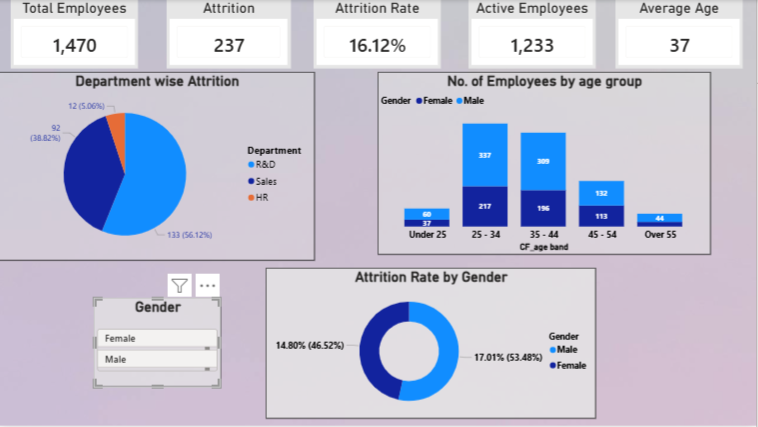

This screenshot's page, from the dashboard's own definition file:
{"tool":"powerbi","page":{"name":"Page 1","canvas":[1280,720],"ordinal":0},"visuals":[{"type":"cardVisual","title":"Total Employees","fields":{"Data":["HR data.Total Employees Text"]},"box":[20.2,0,215,115.9],"z":0},{"type":"cardVisual","title":"Attrition","fields":{"Data":["Sum(HR data.Attrition count)"]},"box":[283.9,0,210,115.9],"z":1000},{"type":"cardVisual","title":"Attrition Rate","fields":{"Data":["HR data.Attrition Rate"]},"box":[532.5,0,215,115.9],"z":2000},{"type":"cardVisual","title":"Active Employees","fields":{"Data":["HR data.Difference emp"]},"box":[792.9,0,215,115.9],"z":3000},{"type":"cardVisual","title":"Average Age","fields":{"Data":["HR data.Average Age"]},"box":[1041.5,0,215,115.9],"z":4000},{"type":"pieChart","title":"Department wise Attrition ","fields":{"Category":["HR data.Department"],"Y":["Sum(HR data.Attrition count)"]},"box":[0,120.9,534.2,319.2],"z":5000},{"type":"columnChart","title":"No. of Employees by age group","fields":{"Category":["HR data.CF_age band"],"Y":["Sum(HR data.Employee Count)"],"Series":["HR data.Gender"]},"box":[640,120.9,562.7,309.1],"z":6000},{"type":"cardVisual","title":"Gender","fields":{"Rows":["HR data.Gender"]},"box":[159.6,503.9,215,151.2],"z":7000},{"type":"donutChart","fields":{"Category":["HR data.Gender"],"Y":["HR data.Attrition Rate"]},"box":[450.2,451.9,557.7,255.3],"z":8000}]}

Visuals, with their boxes in screenshot pixels (x1, y1, x2, y2), scaled from the page's 1280x720 canvas onto the 758x427 screenshot:
"Total Employees" cardVisual: locate(12, 0, 139, 69)
"Attrition" cardVisual: locate(168, 0, 292, 69)
"Attrition Rate" cardVisual: locate(315, 0, 443, 69)
"Active Employees" cardVisual: locate(470, 0, 597, 69)
"Average Age" cardVisual: locate(617, 0, 744, 69)
"Department wise Attrition " pieChart: locate(0, 72, 316, 261)
"No. of Employees by age group" columnChart: locate(379, 72, 712, 255)
"Gender" cardVisual: locate(95, 299, 222, 389)
donutChart - HR data.Gender x HR data.Attrition Rate: locate(267, 268, 597, 419)
